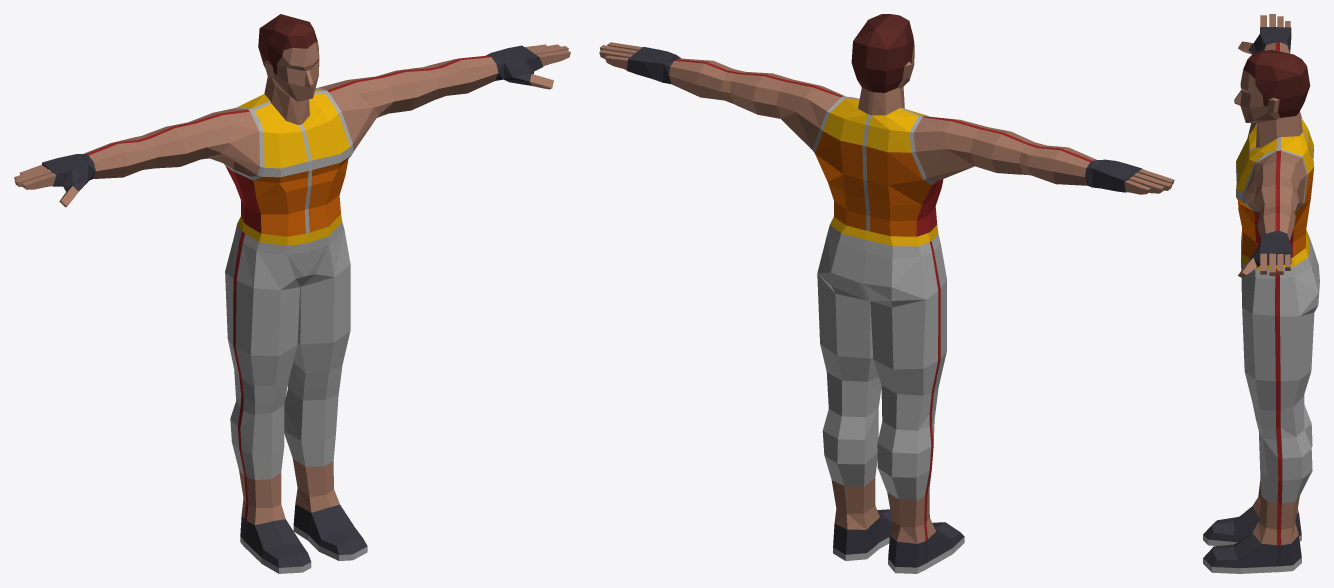
The model's file is BlendShape_Test_Rig.fbx.
3 renders of one model, left to right at view 1: azimuth 30°, elevation 25°; view 2: azimuth 150°, elevation 25°; view 3: azimuth 270°, elevation 25°, orthographic. The views are drawn at different scales.
Visible parts, largest first — view 1: polySurface2, polySurface1; view 2: polySurface2, polySurface1; view 3: polySurface2, polySurface1.
Boxes of the visible parts, x1=… form: polySurface2: x1=14, y1=44, x2=570, y2=573; polySurface1: x1=258, y1=14, x2=319, y2=101; polySurface2: x1=599, y1=42, x2=1174, y2=573; polySurface1: x1=851, y1=14, x2=914, y2=92; polySurface2: x1=1203, y1=14, x2=1319, y2=573; polySurface1: x1=1234, y1=50, x2=1310, y2=123.
Size of the model in its own units: 205 by 185 by 39.24.
